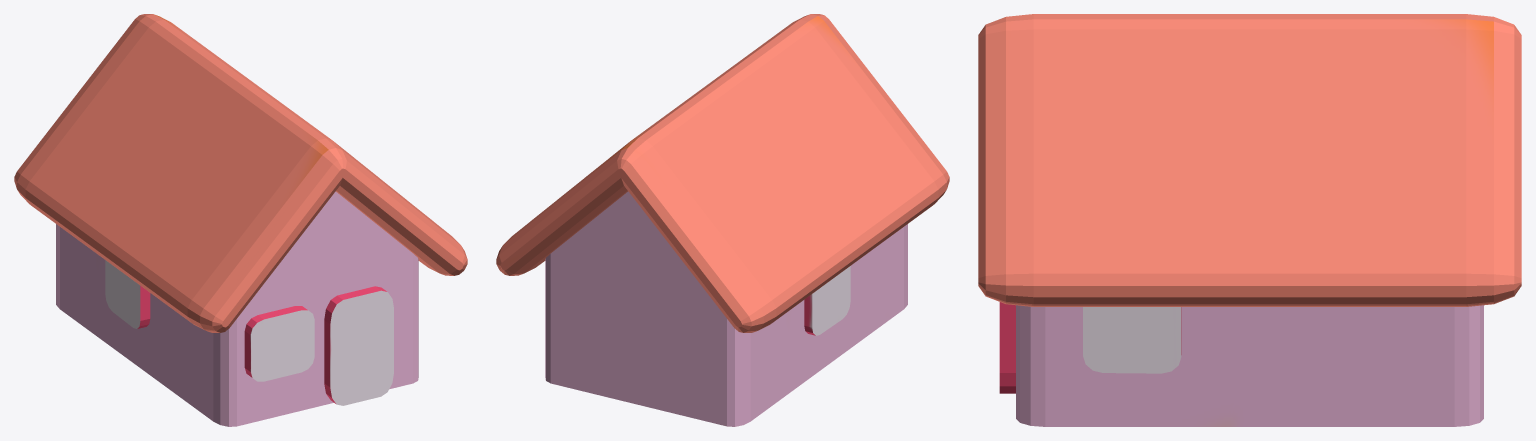
File: CASA.fbx
The picture shows the model from 3 angles, left to right: view 1: azimuth 30°, elevation 25°; view 2: azimuth 150°, elevation 25°; view 3: azimuth 270°, elevation 25°; orthographic projection. The views are drawn at different scales.
Visible parts, largest first — view 1: Cube.001; view 2: Cube.001; view 3: Cube.001.
Boxes of the visible parts, bbox=[...] form: Cube.001: bbox=[14, 14, 467, 426]; Cube.001: bbox=[496, 14, 949, 426]; Cube.001: bbox=[978, 14, 1521, 426].
Size of the model in its own units: 530 by 491 by 696.
Materials: 1 (1 with a texture image).
